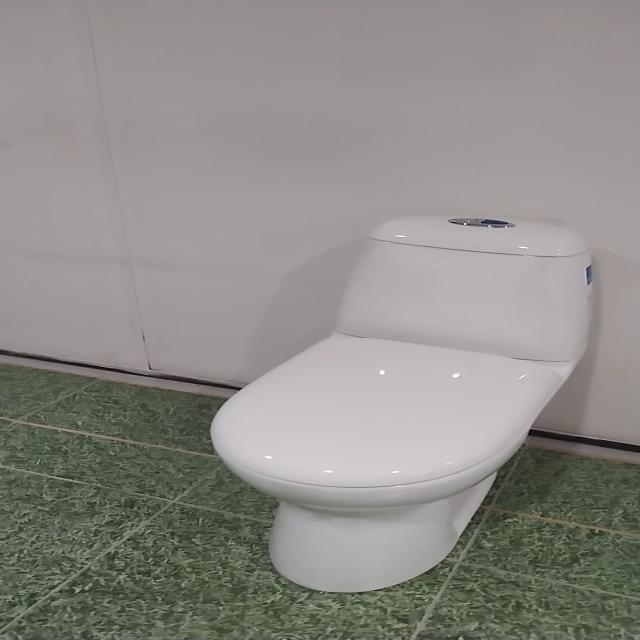toilet: (208, 214, 595, 593)
